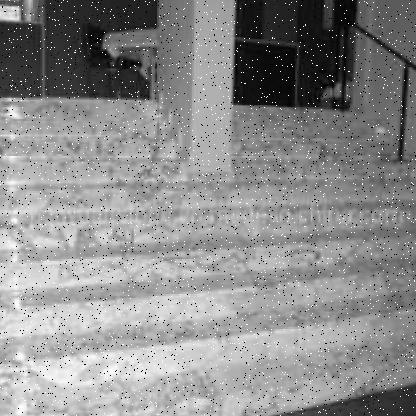stair_up: (24, 183, 311, 356)
